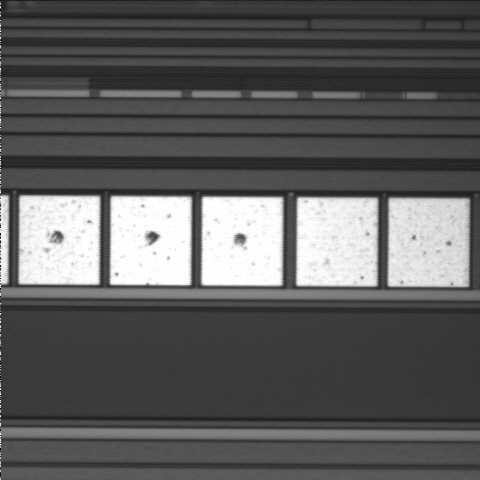pad: (19, 196, 100, 285), (110, 196, 191, 285), (202, 197, 283, 286), (297, 197, 378, 286), (388, 198, 469, 287)
